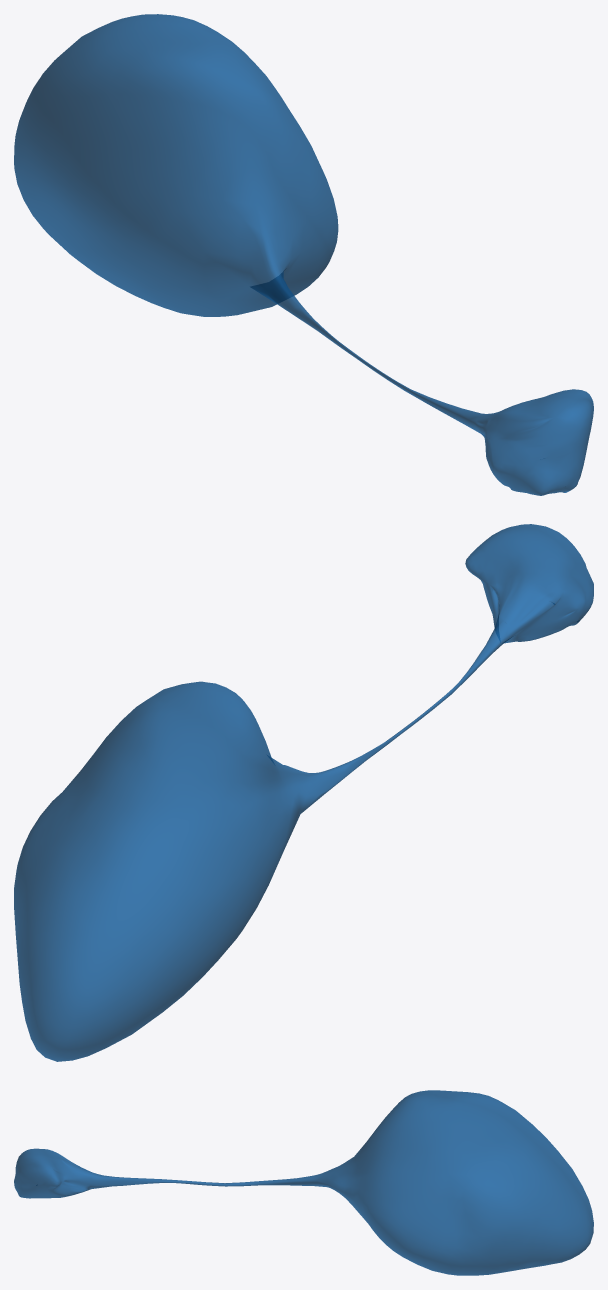
The model's file is spine-5-hr.obj.
3 views of the same model, one above another, from view 1: azimuth 30°, elevation 25°; view 2: azimuth 150°, elevation 25°; view 3: azimuth 270°, elevation 25° (orthographic). The views are drawn at different scales.
Parts seen in each view (by area): view 1: spine-5-hr_Cube.195; view 2: spine-5-hr_Cube.195; view 3: spine-5-hr_Cube.195.
Boxes of the visible parts, x1,y1,x2,y2 form: spine-5-hr_Cube.195: [14, 14, 593, 495]; spine-5-hr_Cube.195: [14, 524, 593, 1061]; spine-5-hr_Cube.195: [14, 1090, 593, 1275].
Size of the model in its own units: 0.5419 by 0.7102 by 2.26.
